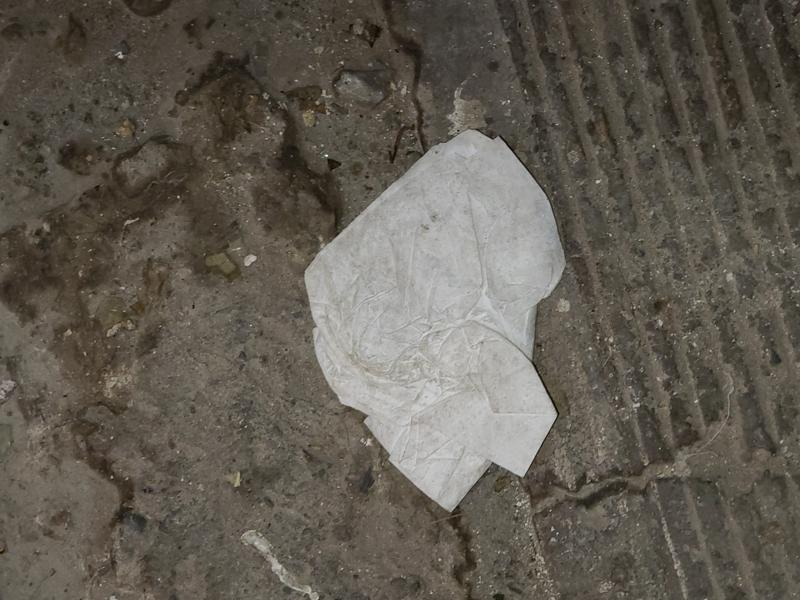papel: (302, 131, 568, 513)
